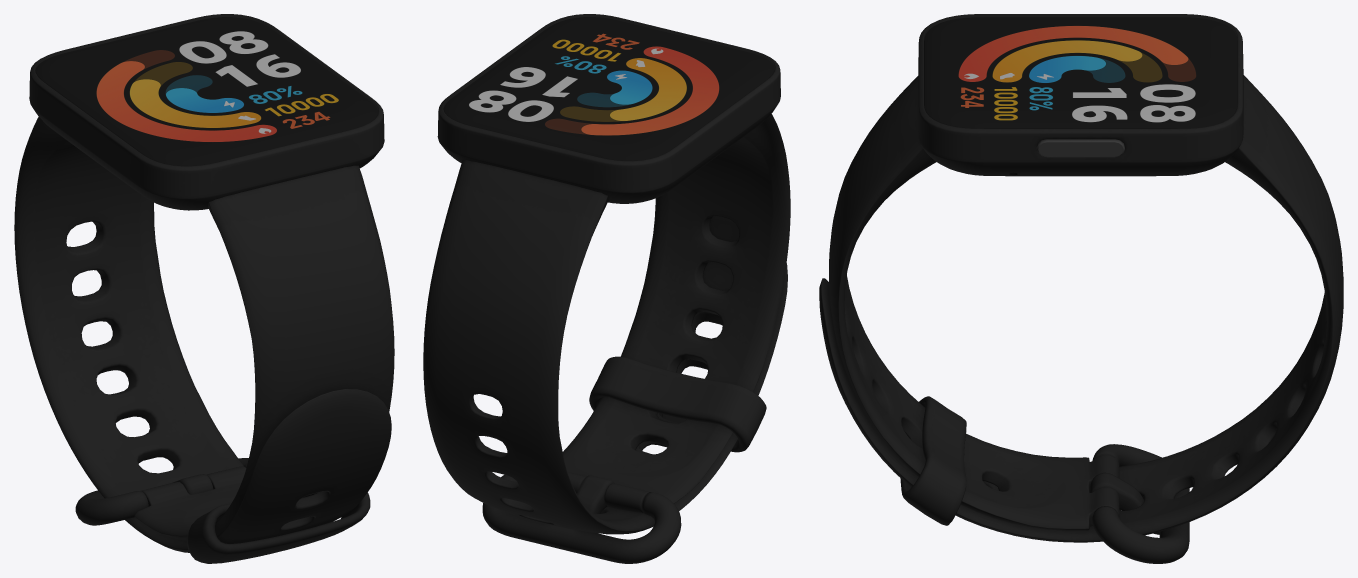
File: redmi.c1b881c1.glb
The picture shows the model from 3 angles, left to right: view 1: azimuth 30°, elevation 25°; view 2: azimuth 150°, elevation 25°; view 3: azimuth 270°, elevation 25°; orthographic projection. The views are drawn at different scales.
Visible parts, largest first — view 1: body, glass1, screen; view 2: body, glass1, screen; view 3: body, glass1, screen.
Boxes of the visible parts, x1,y1,x2,y2 form: body: (14, 14, 394, 563); glass1: (35, 14, 378, 165); screen: (35, 17, 378, 166); body: (423, 14, 790, 563); glass1: (443, 14, 775, 160); screen: (443, 17, 774, 160); body: (819, 14, 1343, 563); glass1: (924, 14, 1237, 128); screen: (924, 17, 1237, 128).
Bounding box in the file's own units: 0.3435 × 0.6171 × 0.6307.
Materials: 3 (2 with a texture image).
